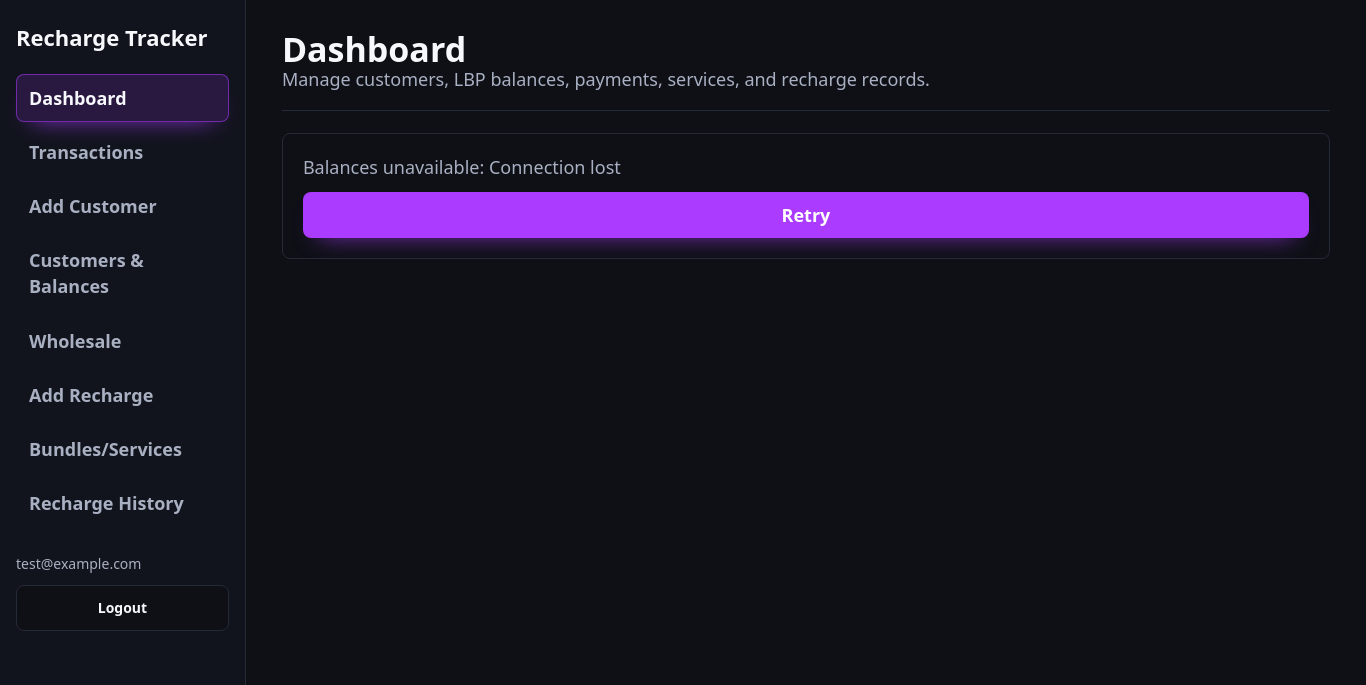
ledger availability in the actual app › shows a clear failed-load warning, hides zero totals, and supports a successful Retry
This screenshot has width=1366, height=685.
Expected: the message shows "Balances unavailable", [303,155,621,179]
Expected: the message shows "Connection lost", [303,155,621,179]
Click the button "Retry" at (806, 215), box [303,192,1309,238]
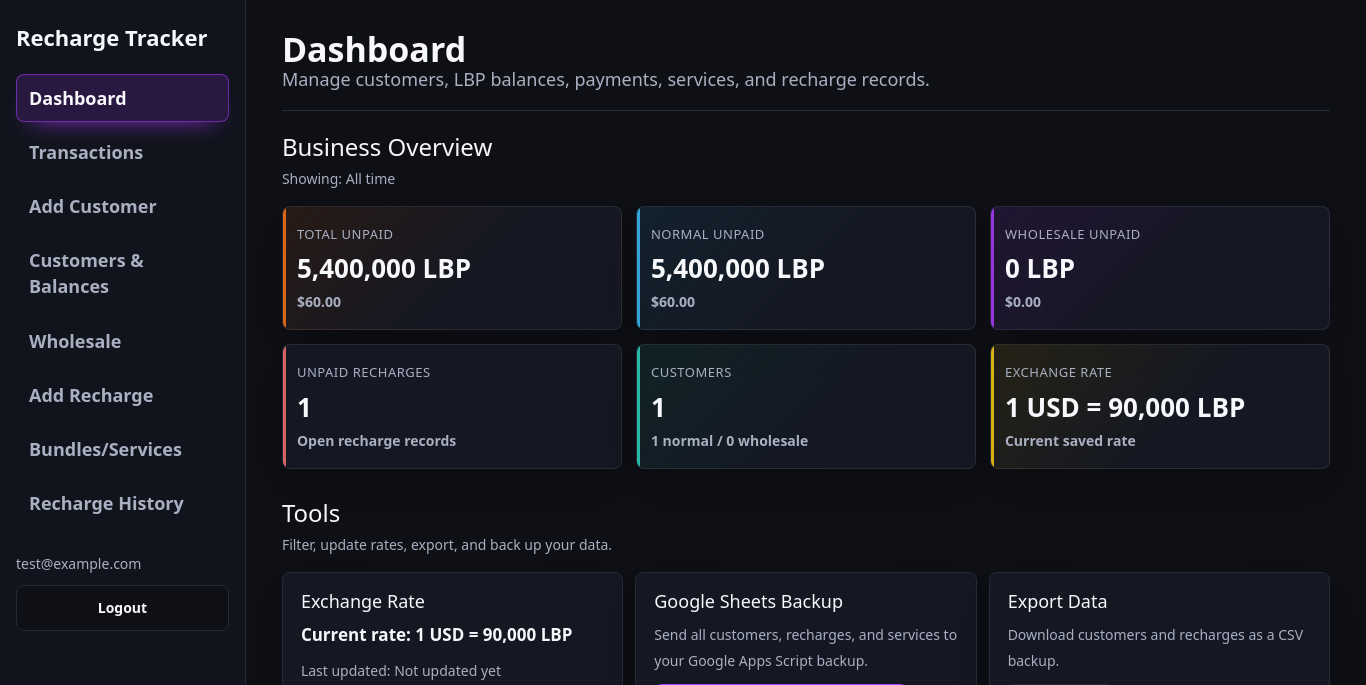
Result: the message "Balances unavailable: Connection lost Retry" is gone
